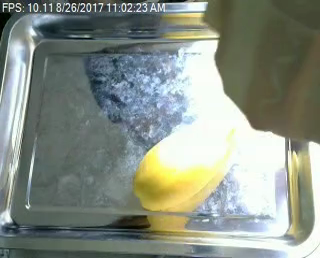Mango: (132, 114, 241, 210)
